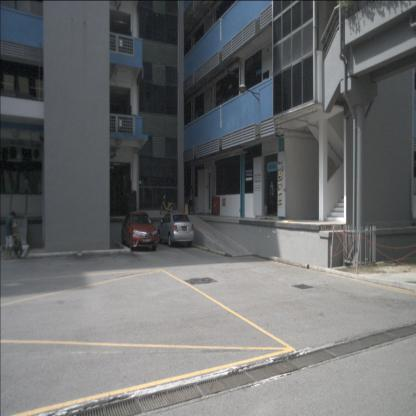human-pedestrian-adult: (5, 209, 17, 260), (188, 186, 193, 215)
vehicle-bicycle: (8, 221, 22, 259), (160, 193, 176, 217)
vehicle-car: (121, 211, 158, 252), (158, 212, 194, 247)
